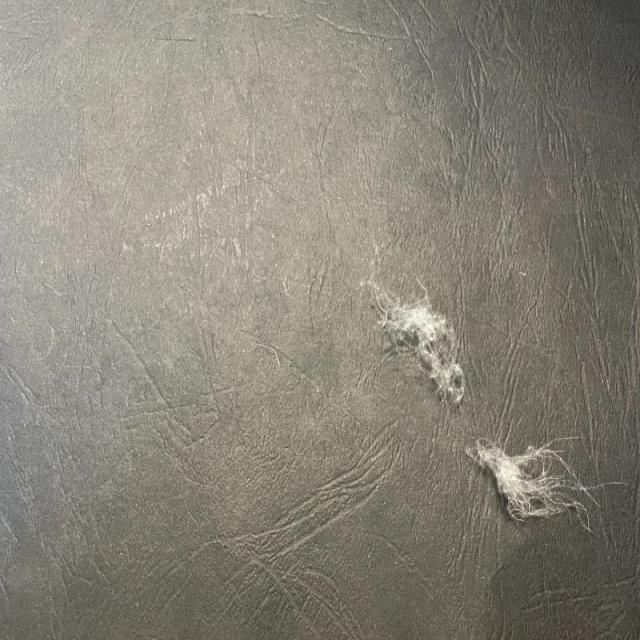feather: (354, 272, 468, 402), (476, 436, 590, 523)
